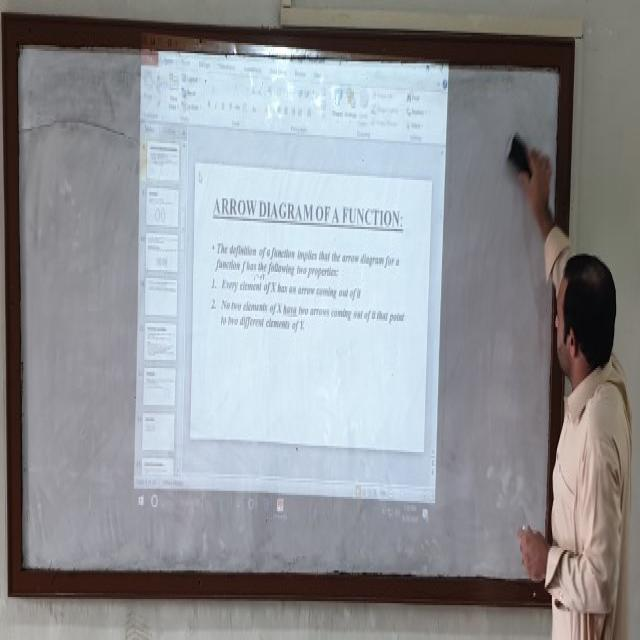Instructor: (531, 230, 631, 640)
Slide: (132, 39, 449, 528)
White-board: (9, 28, 568, 599)
